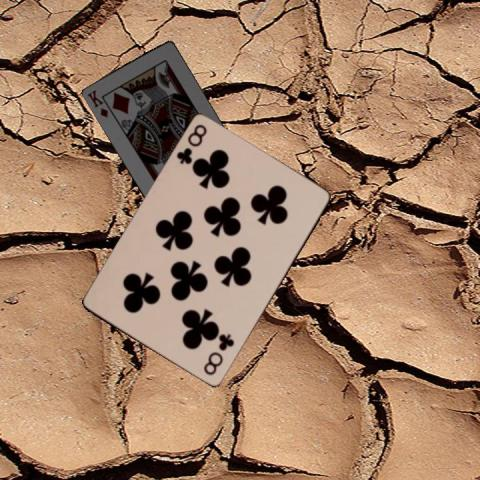8c: (173, 121, 209, 167), (201, 331, 236, 378)
Kd: (84, 87, 109, 119)
